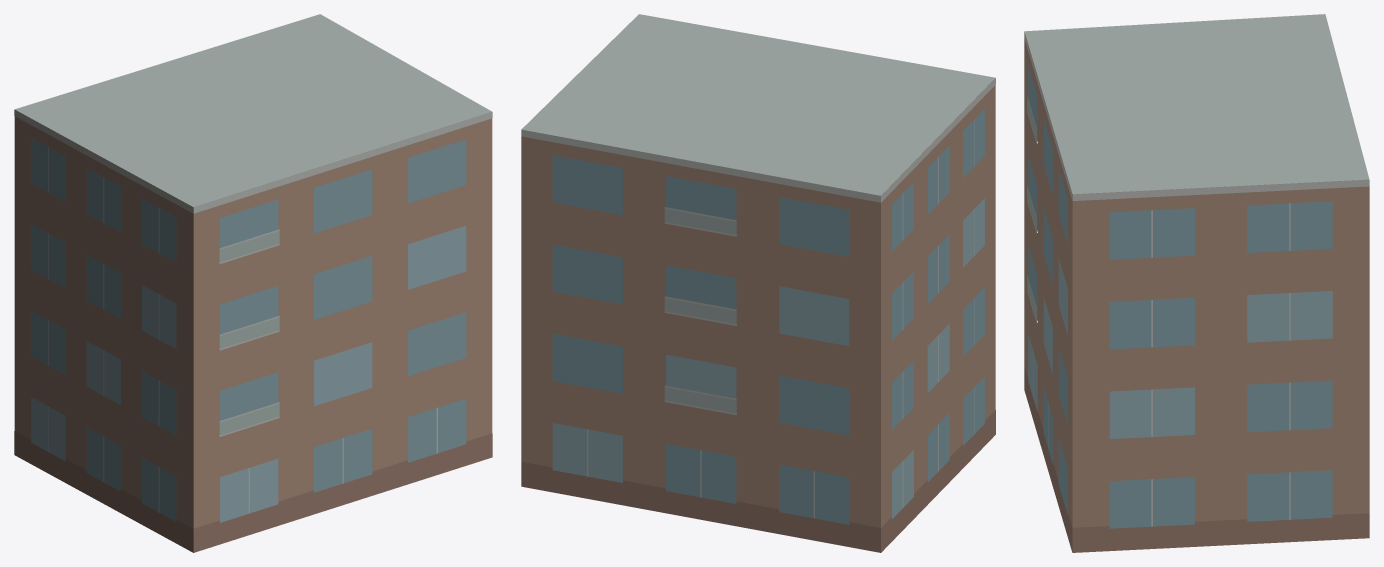
Rendered from survey-upis-32663692.glb.
3 views of the same model, side by side, from view 1: azimuth 30°, elevation 25°; view 2: azimuth 150°, elevation 25°; view 3: azimuth 270°, elevation 25° (orthographic). The views are drawn at different scales.
Parts seen in each view (by area): view 1: survey-upis-32663692.tmp; view 2: survey-upis-32663692.tmp; view 3: survey-upis-32663692.tmp.
Boxes of the visible parts, <box> form: survey-upis-32663692.tmp: <box>14,14,492,552</box>; survey-upis-32663692.tmp: <box>521,14,995,552</box>; survey-upis-32663692.tmp: <box>1024,14,1369,552</box>.
Bounding box in the file's own units: 13.81 × 12.8 × 11.18.
